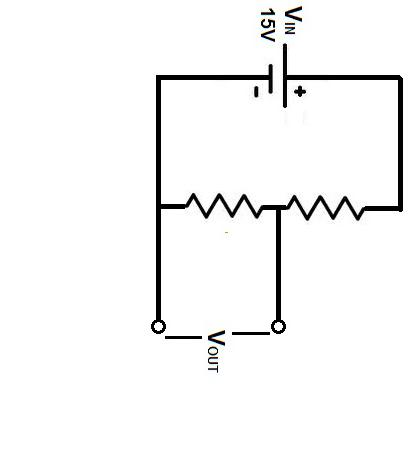resistor: (287, 181, 380, 237), (167, 178, 268, 227)
